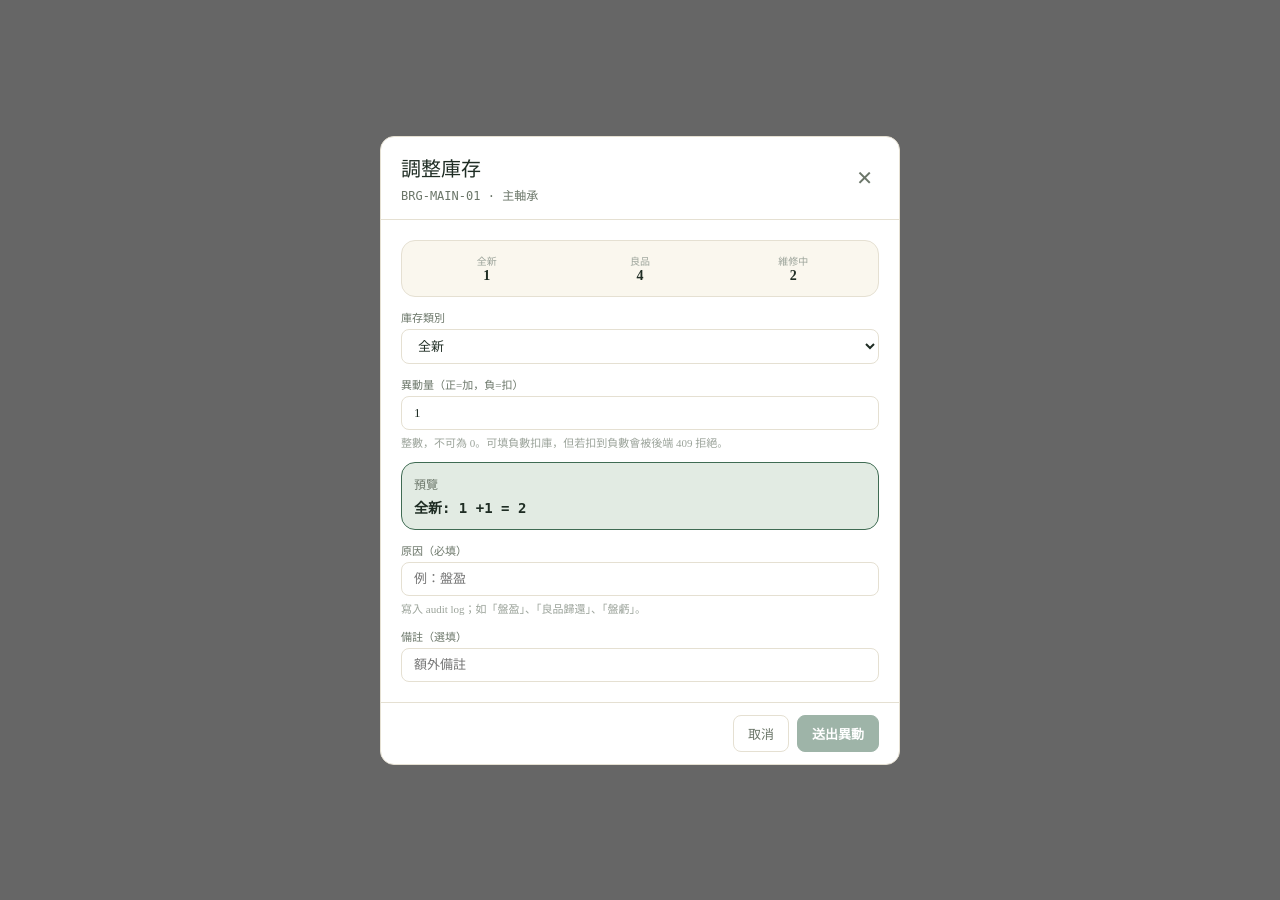
Scenario: InventoryAdjustmentDialog 庫存調整對話框 › 扣到負數：preview 顯示 ⚠ 409 警告（但送出鈕仍可按，交由後端拒）
Replace the text in the number field named "異動量數值" with "-5" at (640,412), box [401,396,879,430]
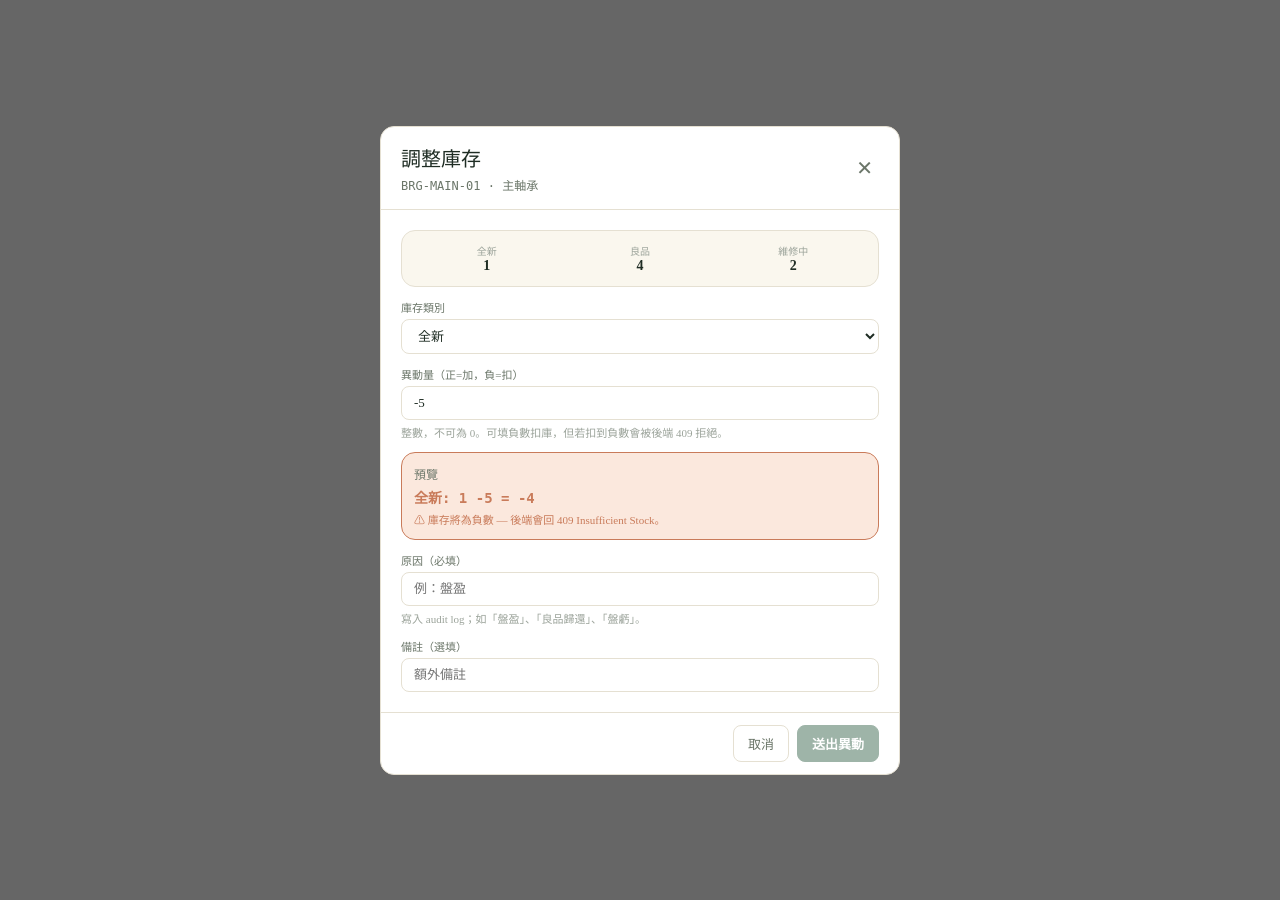
expect the text "⚠ 庫存將為負數 — 後端會回 409 Insufficient Stock。" is shown: met, box [414,514,666,526]
reason 填好後，負庫存不阻擋前端送出（前端只警告，由 backend 回 409）
Type "盤虧" into the field named "異動原因".
click(640, 588); type("盤虧")  # box [401,572,879,606]
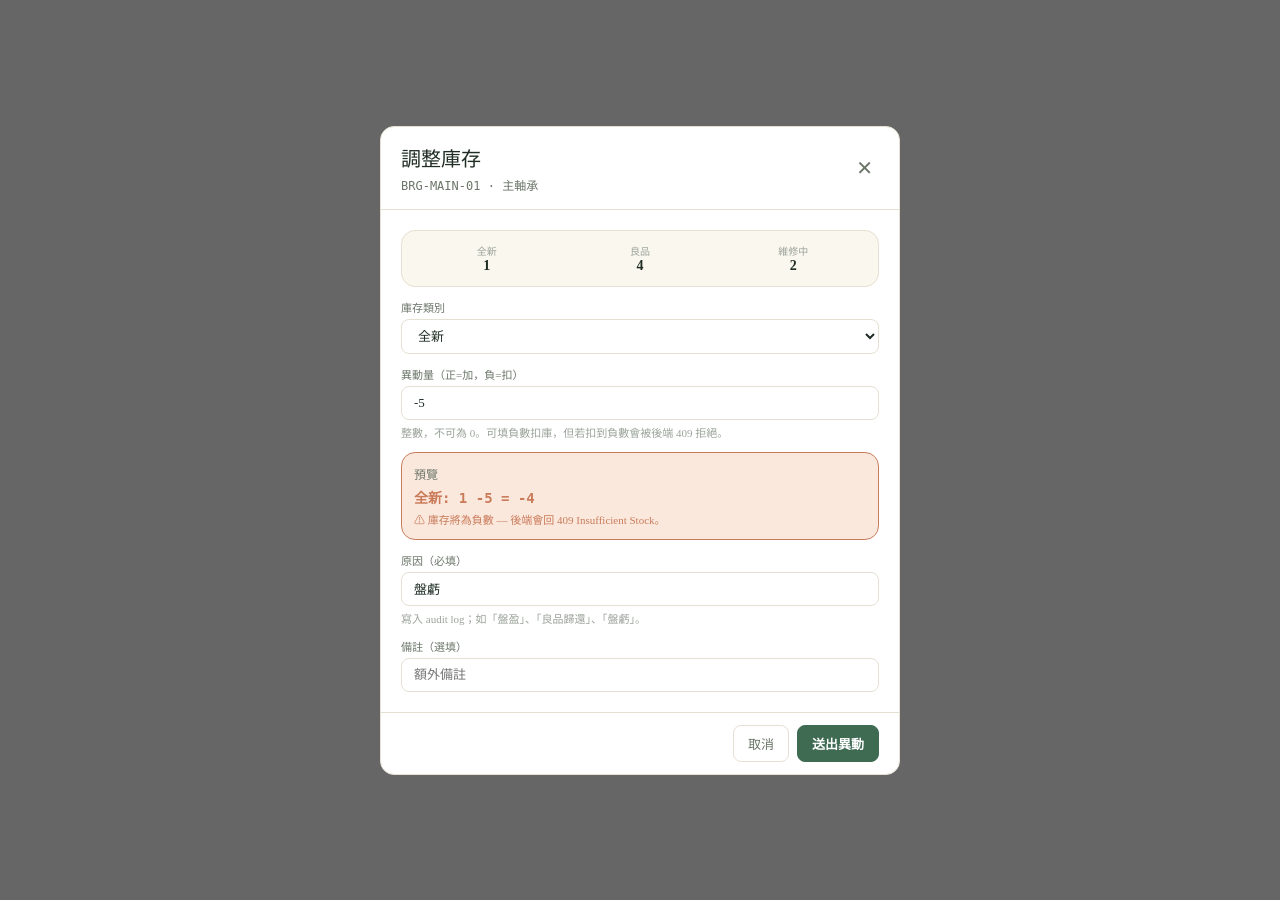
expect the button "送出異動" is enabled: met, box [797,724,879,762]
